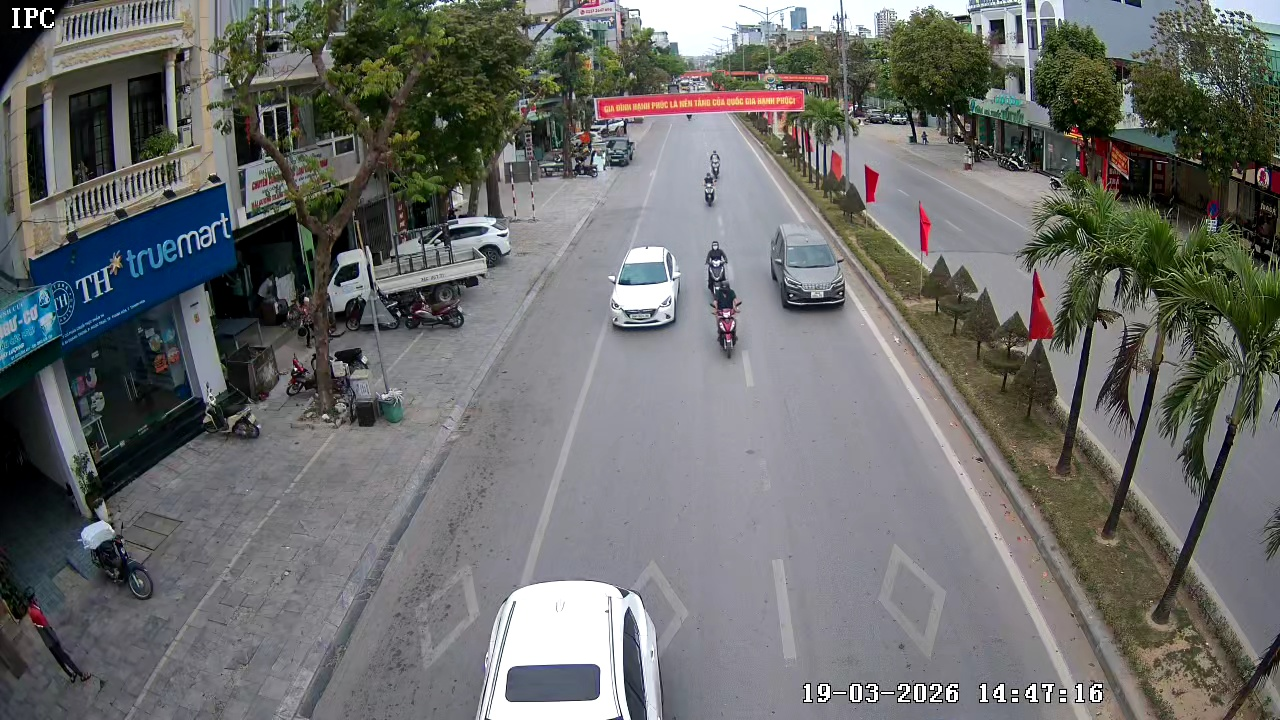car: (473, 577, 670, 719), (768, 224, 848, 309), (607, 244, 684, 332)
motorbike: (77, 514, 156, 600), (708, 276, 744, 359), (703, 239, 732, 299), (702, 161, 720, 207)
